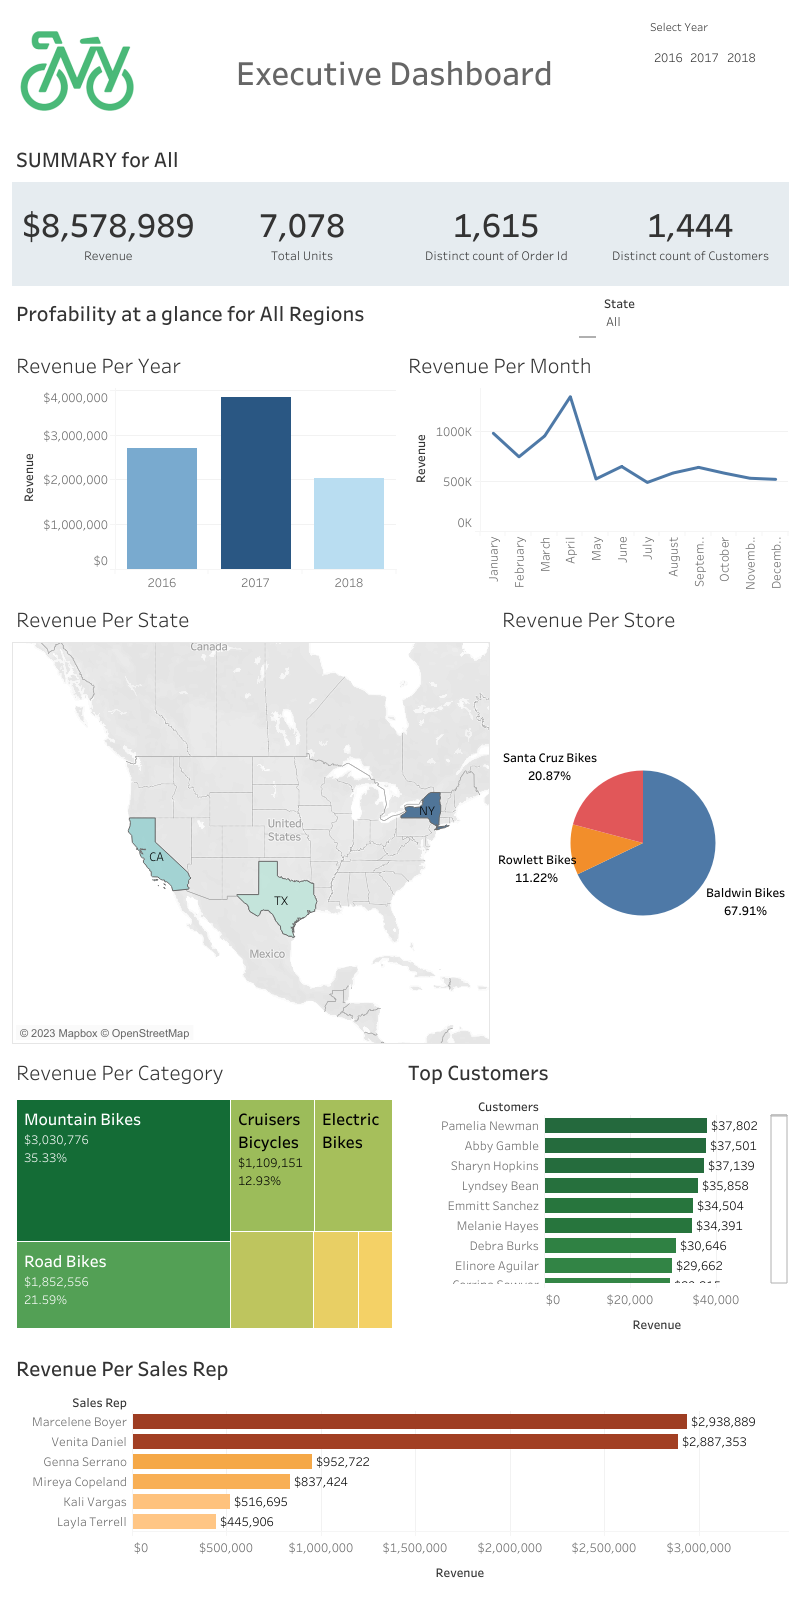

The page's visual inventory and layout, read from the dashboard file:
{"tool":"tableau","page":{"name":"Dashboard 1","canvas":[800,1600],"ordinal":0},"visuals":[{"type":"image","param":"Image/images.png","box":[8,8,139,127]},{"type":"text","box":[147,8,495,127]},{"type":"worksheet","title":"Year","mark":"Automatic","box":[642,8,150,127]},{"type":"worksheet","title":"Banner","mark":"Automatic","box":[8,135,784,154]},{"type":"worksheet","title":"Title","mark":"Automatic","box":[8,289,592,52]},{"type":"filter","title":"Revenue Per State","param":"[federated.0hguqlo0wrkrim15vjdic1rvhory].[none:state:nk]","box":[600,289,168,52]},{"type":"worksheet","title":"Revenue Per Year","mark":"Bar","rows":["revenue"],"cols":["order_date"],"box":[8,341,392,254]},{"type":"worksheet","title":"Revenue Per Month","mark":"Automatic","rows":["revenue"],"cols":["order_date"],"box":[400,341,392,254]},{"type":"worksheet","title":"Revenue Per State","mark":"Automatic","box":[8,595,486,453]},{"type":"worksheet","title":"Revenue Per Store","mark":"Pie","box":[494,595,298,453]},{"type":"worksheet","title":"Revenue Per Category","mark":"Automatic","box":[8,1048,392,296]},{"type":"worksheet","title":"Top Customers","mark":"Automatic","rows":["customers"],"cols":["revenue"],"box":[400,1048,392,296]},{"type":"worksheet","title":"Sheet 7","mark":"Automatic","rows":["sales rep"],"cols":["revenue"],"box":[8,1344,784,248]}]}

Visuals, with their boxes in screenshot pixels (x1, y1, x2, y2), scaled from the page's 800x1600 canvas onto the 800x1600 screenshot:
image: 8,8,147,135
text: 147,8,642,135
"Year" worksheet: 642,8,792,135
"Banner" worksheet: 8,135,792,289
"Title" worksheet: 8,289,600,341
"Revenue Per State" filter: 600,289,768,341
"Revenue Per Year" worksheet (Bar marks): 8,341,400,595
"Revenue Per Month" worksheet: 400,341,792,595
"Revenue Per State" worksheet: 8,595,494,1048
"Revenue Per Store" worksheet (Pie marks): 494,595,792,1048
"Revenue Per Category" worksheet: 8,1048,400,1344
"Top Customers" worksheet: 400,1048,792,1344
"Sheet 7" worksheet: 8,1344,792,1592
